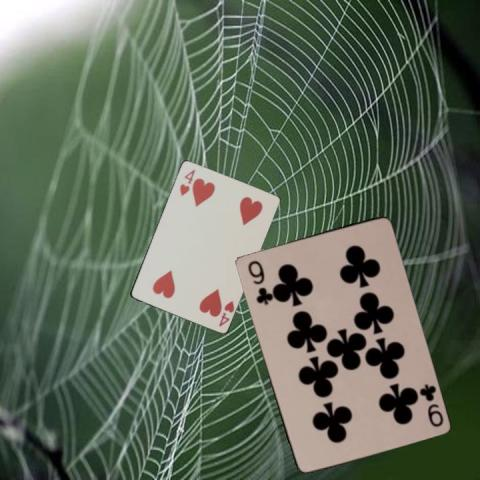4h: (216, 297, 236, 328), (176, 167, 196, 197)
9c: (416, 381, 445, 428), (244, 257, 270, 306)
